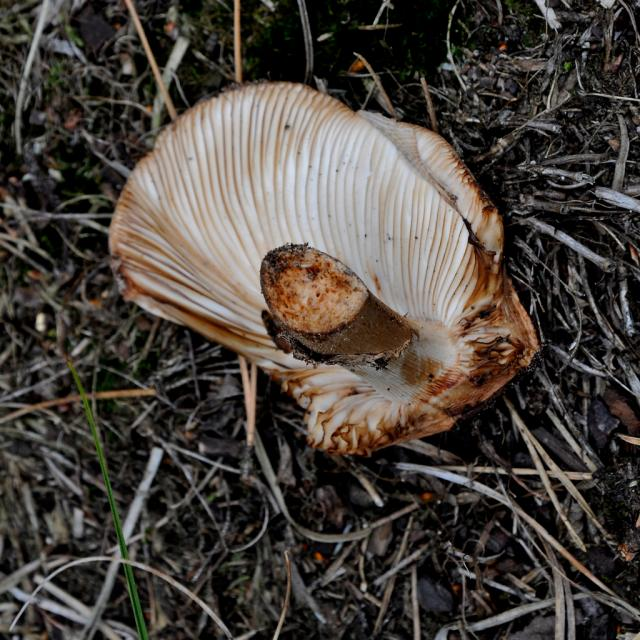Mushroom: (111, 78, 560, 464)
